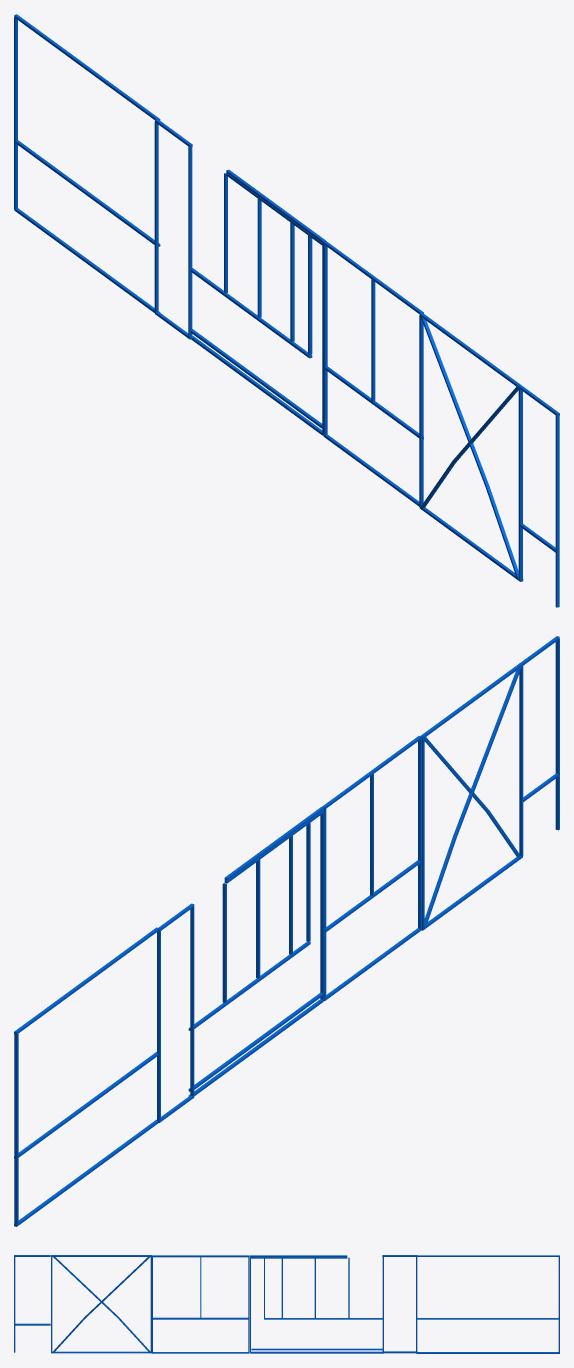
Rendered from S_01_Wall_02_Metal.fbx.
The picture shows the model from 3 angles, top to bottom: view 1: azimuth 30°, elevation 25°; view 2: azimuth 150°, elevation 25°; view 3: azimuth 270°, elevation 25°; orthographic projection. The views are drawn at different scales.
Visible parts, largest first — view 1: S_01_Wall_02_Metal; view 2: S_01_Wall_02_Metal; view 3: S_01_Wall_02_Metal.
Part boxes in pixels (x1=…): S_01_Wall_02_Metal: x1=14, y1=14, x2=559, y2=607; S_01_Wall_02_Metal: x1=14, y1=636, x2=559, y2=1226; S_01_Wall_02_Metal: x1=14, y1=1255, x2=559, y2=1353.
Bounding box in the file's own units: 25.52 × 955 × 4820.
